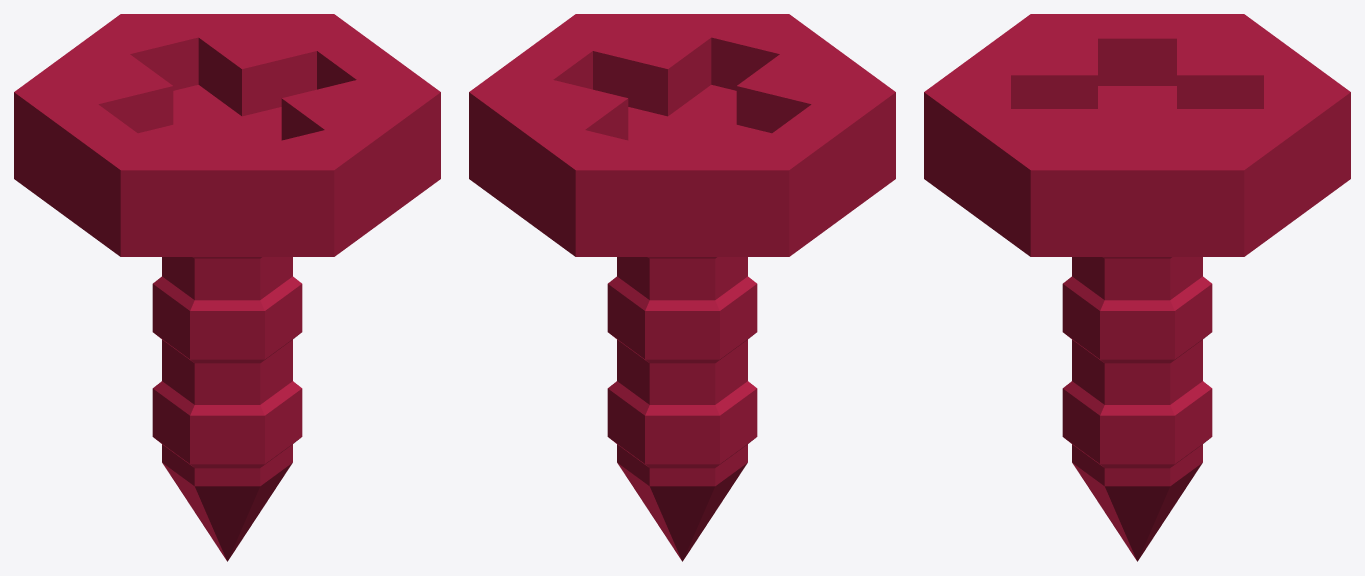
File: ParafusoVida.fbx
The picture shows the model from 3 angles, left to right: view 1: azimuth 30°, elevation 25°; view 2: azimuth 150°, elevation 25°; view 3: azimuth 270°, elevation 25°; orthographic projection.
Visible parts, largest first — view 1: ParafusoVida; view 2: ParafusoVida; view 3: ParafusoVida.
Boxes of the visible parts, x1,y1,x2,y2 form: ParafusoVida: (14, 14, 440, 561); ParafusoVida: (469, 14, 895, 561); ParafusoVida: (924, 14, 1350, 561).
Bounding box in the file's own units: 51.22 × 71.81 × 59.14.
